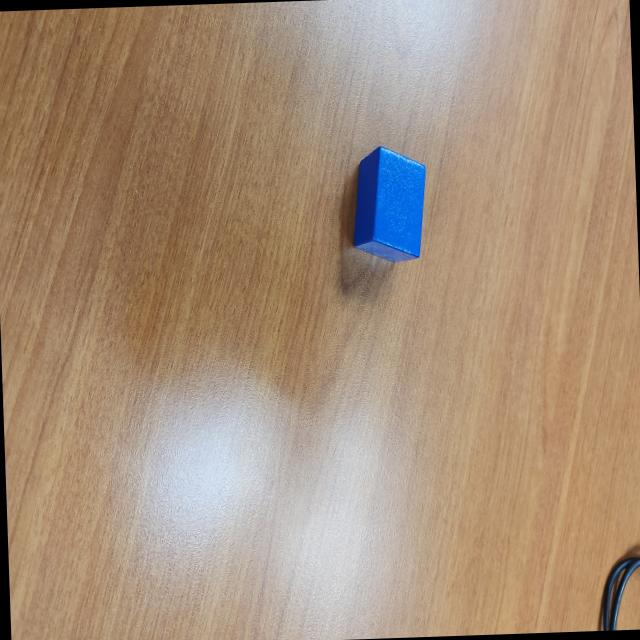blue: (348, 145, 428, 263)
